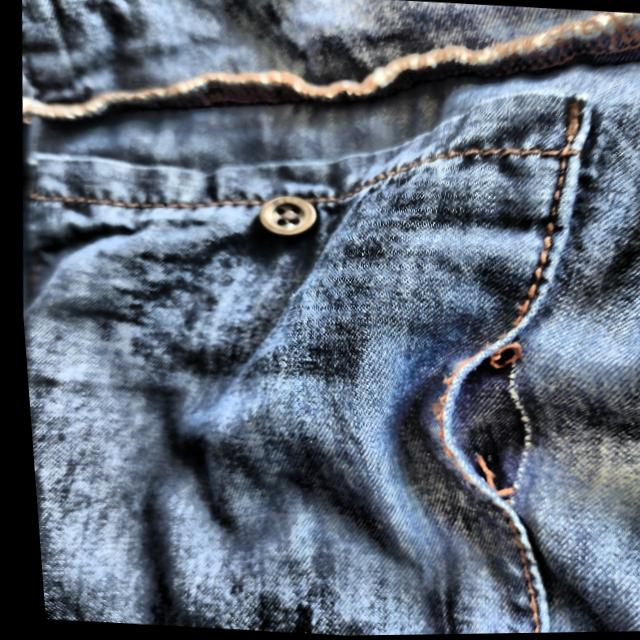seam: (401, 342, 550, 512)
